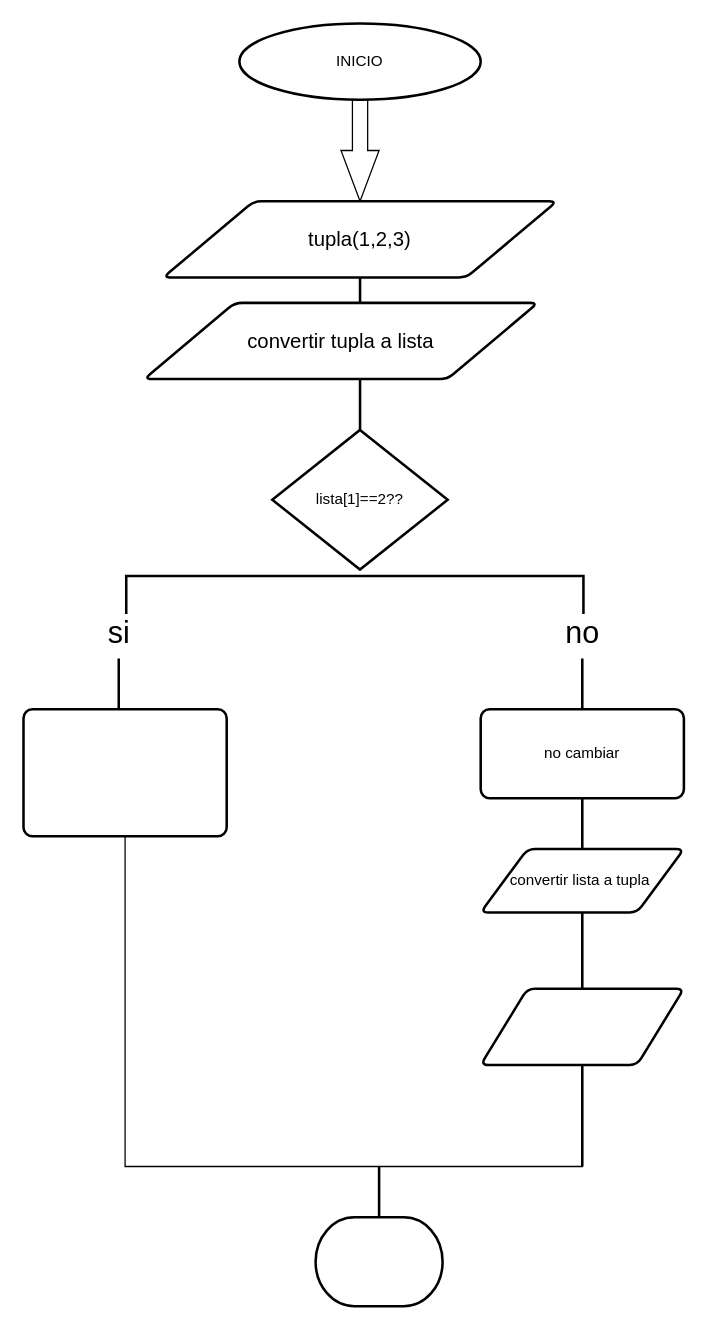
The diagram is 706 pixels wide and 1328 high, and some of its shapes have lost their labels. Each missing label, with the centre of its shape:
"Fin" belongs at point 378,1261.
"lista[1]=10" belongs at point 124,772.
"mostrar tupla" belongs at point 582,1026.
